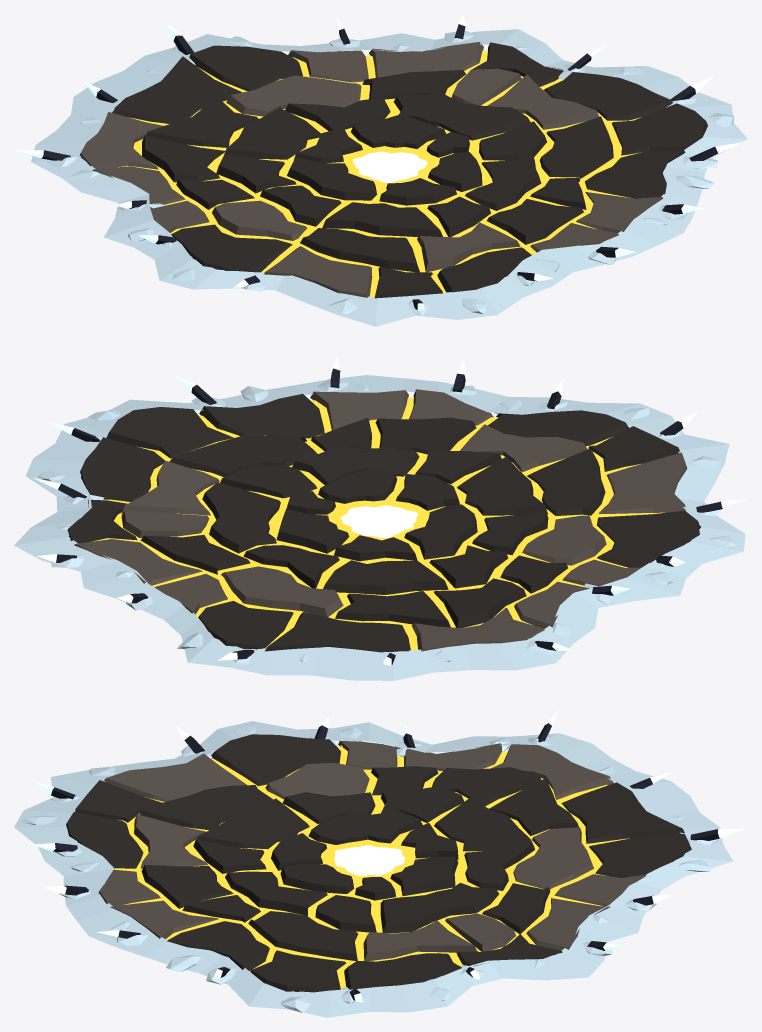
Rendered from Titan_Crater.fbx.
The picture shows the model from 3 angles, top to bottom: view 1: azimuth 30°, elevation 25°; view 2: azimuth 150°, elevation 25°; view 3: azimuth 270°, elevation 25°; orthographic projection. The views are drawn at different scales.
Visible parts, largest first — view 1: Titan_Crater; view 2: Titan_Crater; view 3: Titan_Crater.
Part boxes in pixels (left/top/right/bottom): Titan_Crater: left=15, top=14, right=747, bottom=326; Titan_Crater: left=14, top=355, right=747, bottom=680; Titan_Crater: left=14, top=710, right=746, bottom=1017.
Size of the model in its own units: 606 by 15 by 632.
